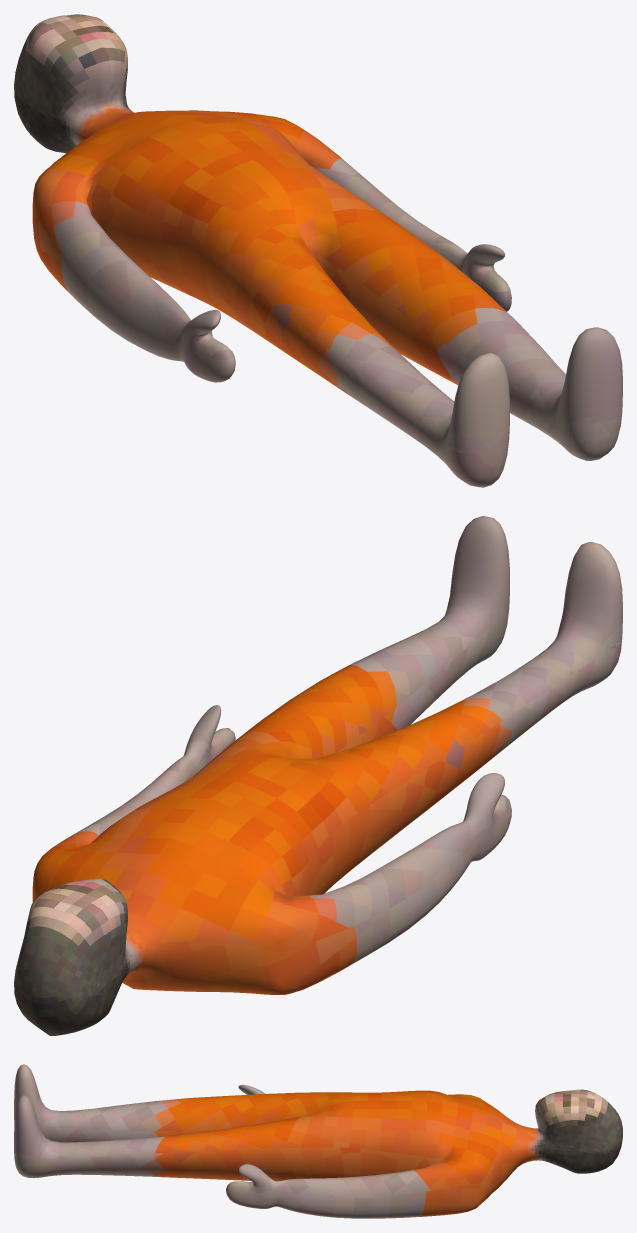
The model's file is Corpse1textiured.glb.
The picture shows the model from 3 angles, top to bottom: view 1: azimuth 30°, elevation 25°; view 2: azimuth 150°, elevation 25°; view 3: azimuth 270°, elevation 25°; orthographic projection. The views are drawn at different scales.
Visible parts, largest first — view 1: Cube.001; view 2: Cube.001; view 3: Cube.001.
Part boxes in pixels (x1,y1,x2,y2): Cube.001: (14, 14, 622, 487); Cube.001: (14, 516, 622, 1035); Cube.001: (14, 1064, 622, 1218).
Bounding box in the file's own units: 2.82 × 1.54 × 8.17.
1 material, 1 textured.
